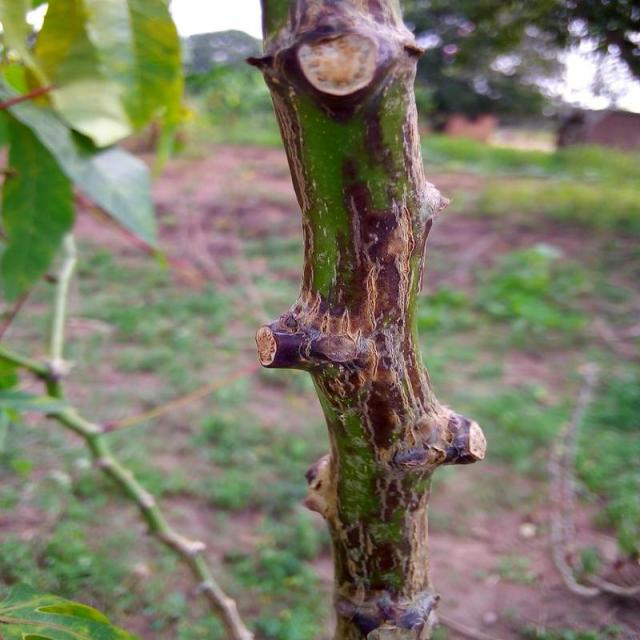cassava leaf: (246, 0, 488, 635), (1, 580, 140, 639)
